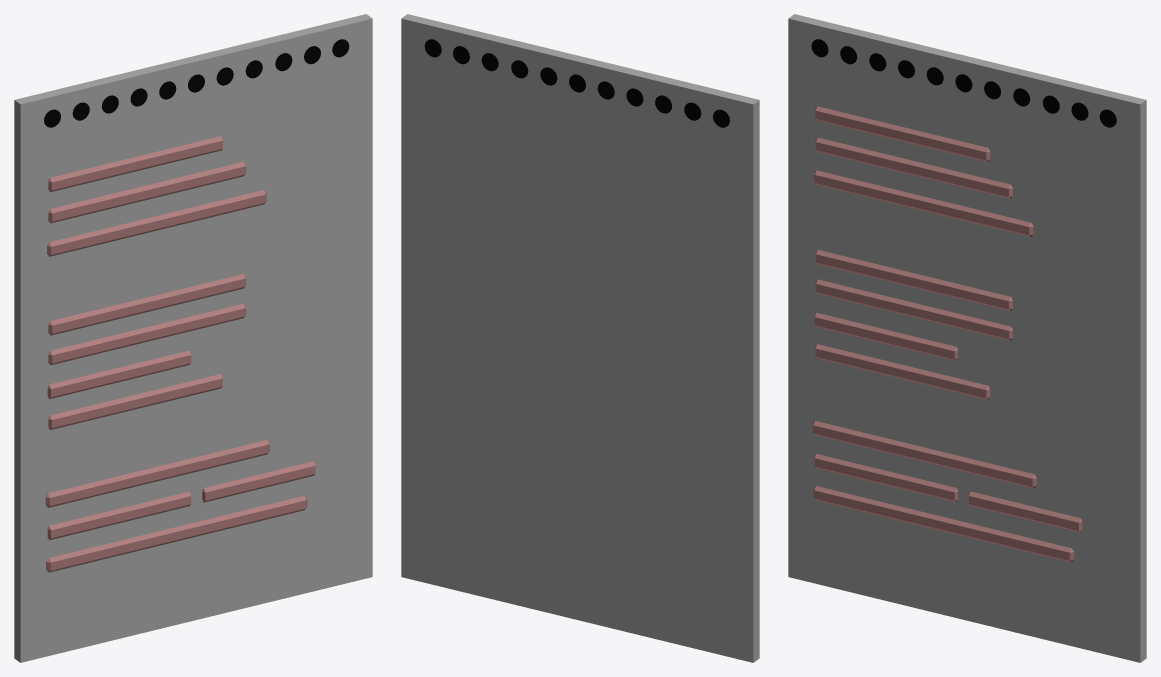
The model's file is order_slip.fbx.
The picture shows the model from 3 angles, left to right: view 1: azimuth 30°, elevation 25°; view 2: azimuth 150°, elevation 25°; view 3: azimuth 330°, elevation 25°; orthographic projection.
Parts seen in each view (by area): view 1: pCube1, pCube12, pCube9, pCube4, pCube3, pCube6, pCube5, pCube2, pCube8, pCube10, pCube7, pCube11; view 2: pCube1; view 3: pCube1, pCube12, pCube9, pCube4, pCube6, pCube3, pCube5, pCube2, pCube8, pCube7, pCube10, pCube11.
Boxes of the visible parts, <box> form: pCube1: <box>14,14,372,662</box>; pCube12: <box>46,496,307,572</box>; pCube9: <box>45,440,269,507</box>; pCube4: <box>47,190,266,256</box>; pCube3: <box>48,161,245,223</box>; pCube6: <box>48,303,245,365</box>; pCube5: <box>48,274,245,335</box>; pCube2: <box>48,136,222,192</box>; pCube8: <box>48,374,222,429</box>; pCube10: <box>47,491,191,540</box>; pCube7: <box>47,350,191,398</box>; pCube11: <box>202,461,315,502</box>; pCube1: <box>401,14,759,662</box>; pCube1: <box>788,14,1146,662</box>; pCube12: <box>813,486,1074,562</box>; pCube9: <box>812,421,1036,488</box>; pCube4: <box>814,170,1033,236</box>; pCube6: <box>815,279,1012,340</box>; pCube3: <box>815,137,1012,198</box>; pCube5: <box>815,250,1012,311</box>; pCube2: <box>815,106,990,162</box>; pCube8: <box>815,344,990,399</box>; pCube7: <box>814,312,958,361</box>; pCube10: <box>814,454,958,502</box>; pCube11: <box>969,491,1082,532</box>.
Size of the model in its own units: 1 by 1.52 by 0.0427.
